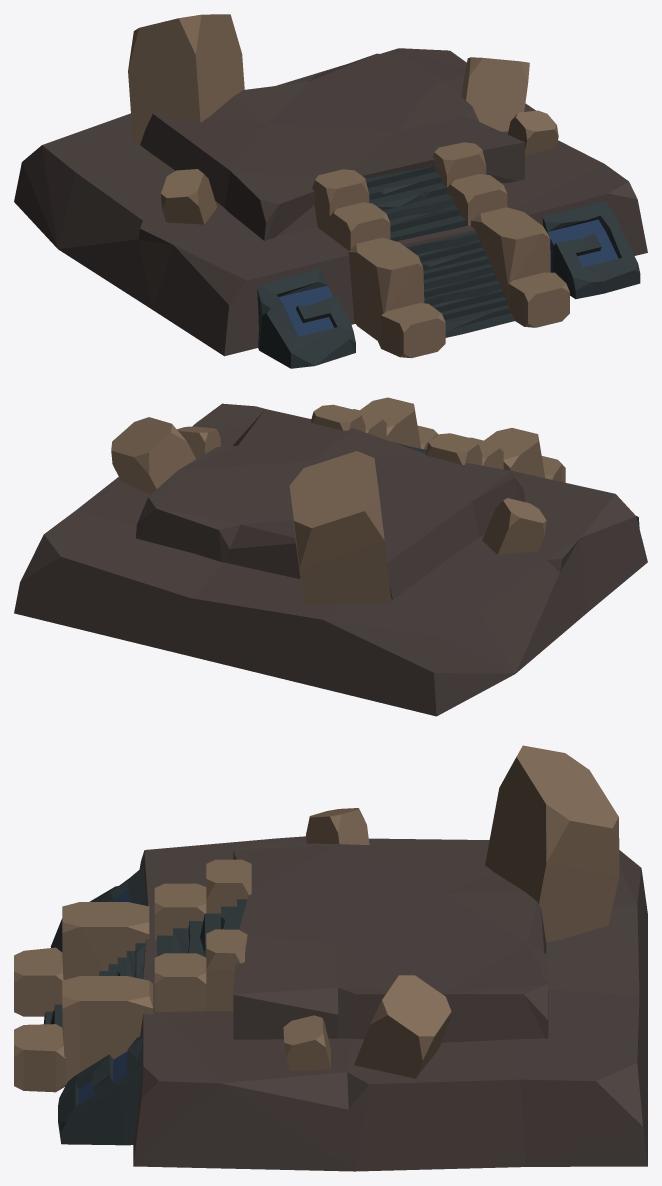
Rendered from Monument Place_1.fbx.
3 renders of one model, top to bottom at view 1: azimuth 30°, elevation 25°; view 2: azimuth 150°, elevation 25°; view 3: azimuth 270°, elevation 25°, orthographic. The views are drawn at different scales.
Parts seen in each view (by area): view 1: Monument Place_1; view 2: Monument Place_1; view 3: Monument Place_1.
Part boxes in pixels (bbox=[...]): Monument Place_1: bbox=[14, 14, 647, 368]; Monument Place_1: bbox=[14, 397, 647, 716]; Monument Place_1: bbox=[14, 745, 647, 1171].
Bounding box in the file's own units: 13.53 × 5.6 × 13.56.
